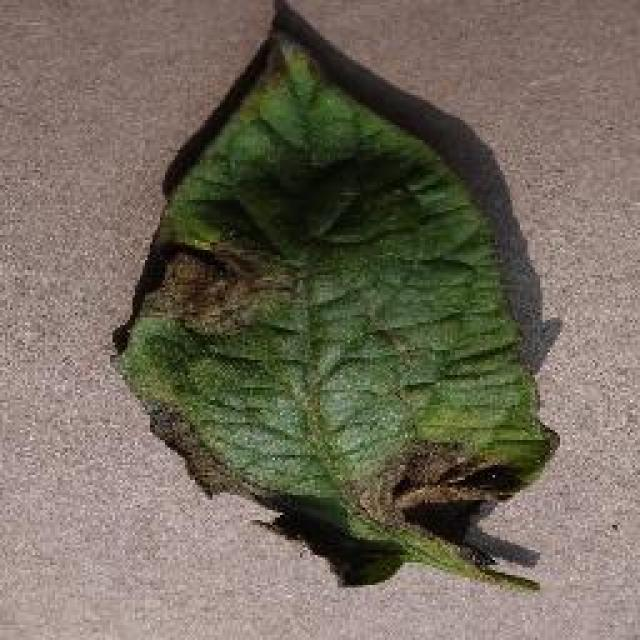leaf blight: (111, 26, 568, 588)
